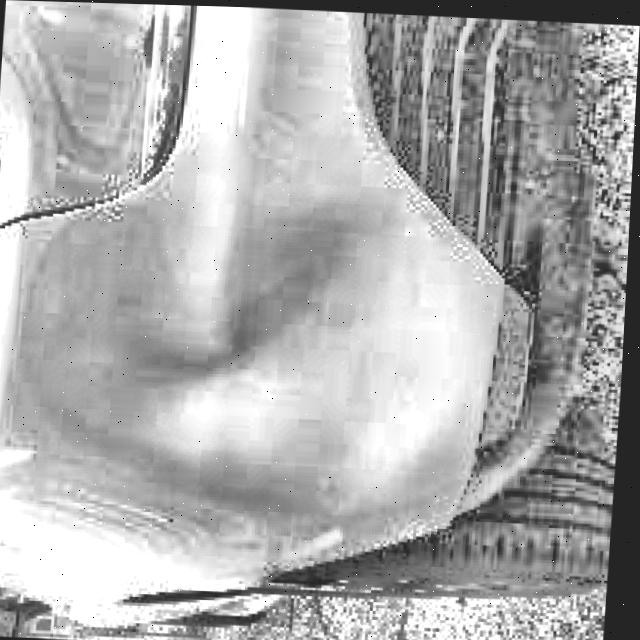bumper_dent: (34, 215, 473, 532)
